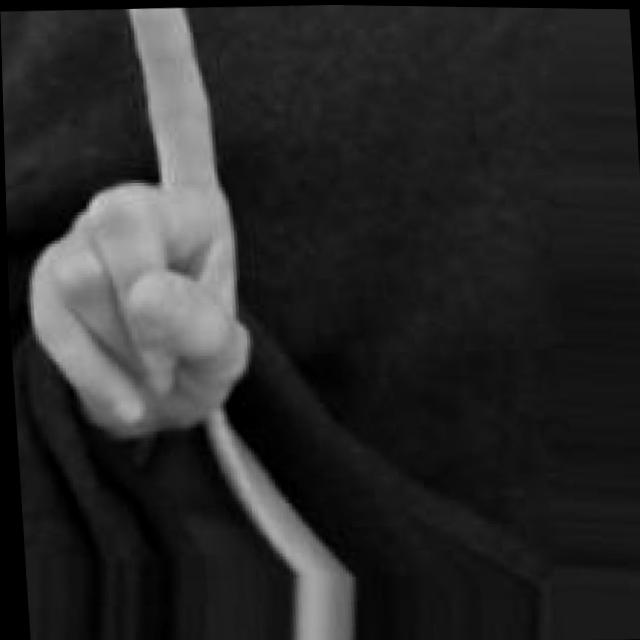I: (5, 3, 260, 452)
